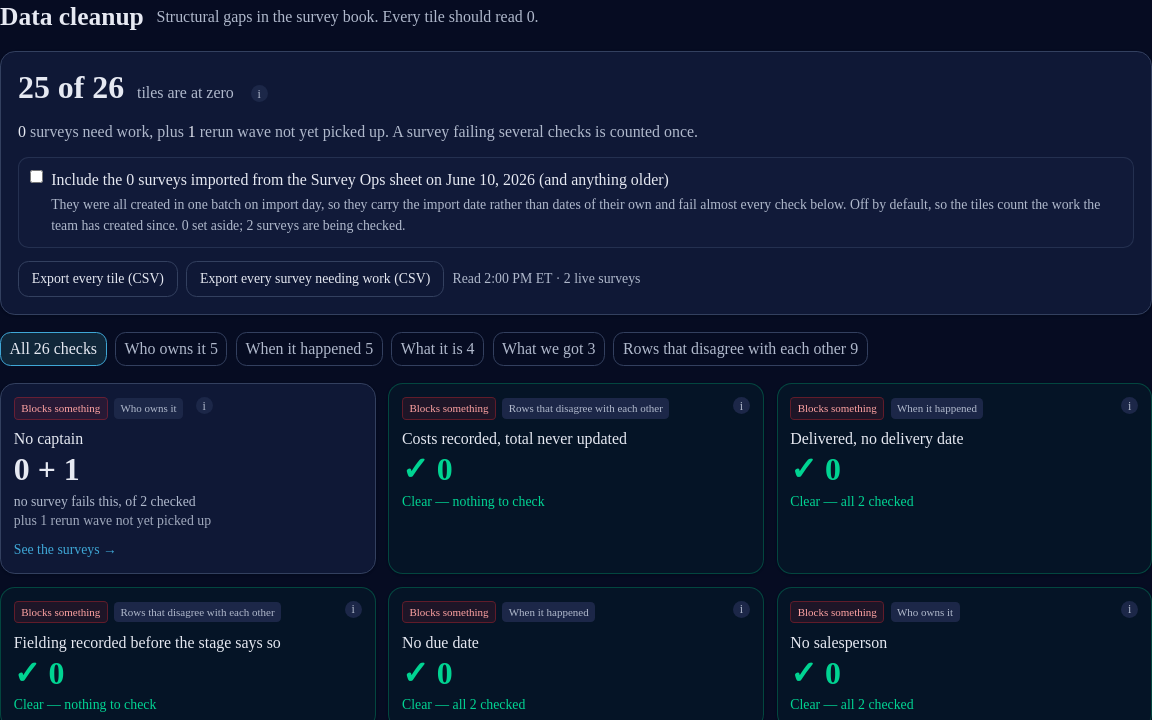
Test case: the drill › opens with the waves already shown when the waves are the whole count
Click the button named "Open the 1 surveys behind \"No captain\"" at x=61, y=408, box [0,383,376,574]
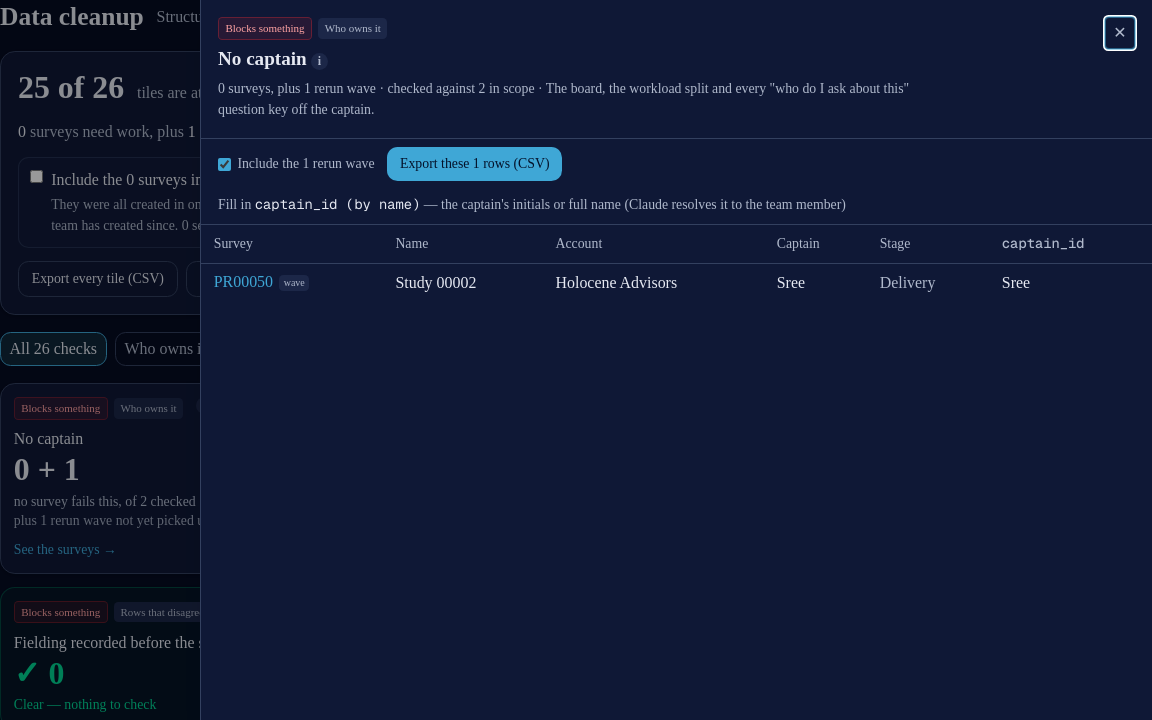
Check: the link "PR00050" is shown, box [214,273,273,290]
Check: the checkbox labelled "Include the 1 rerun wave" is checked, box [218,158,231,170]
